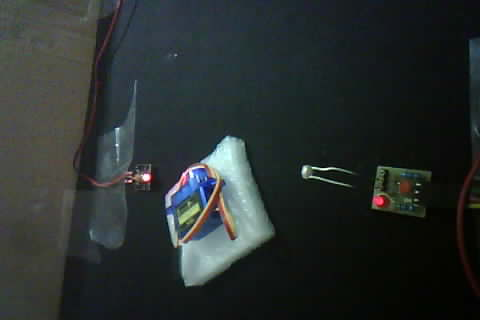motor: (162, 145, 273, 278)
